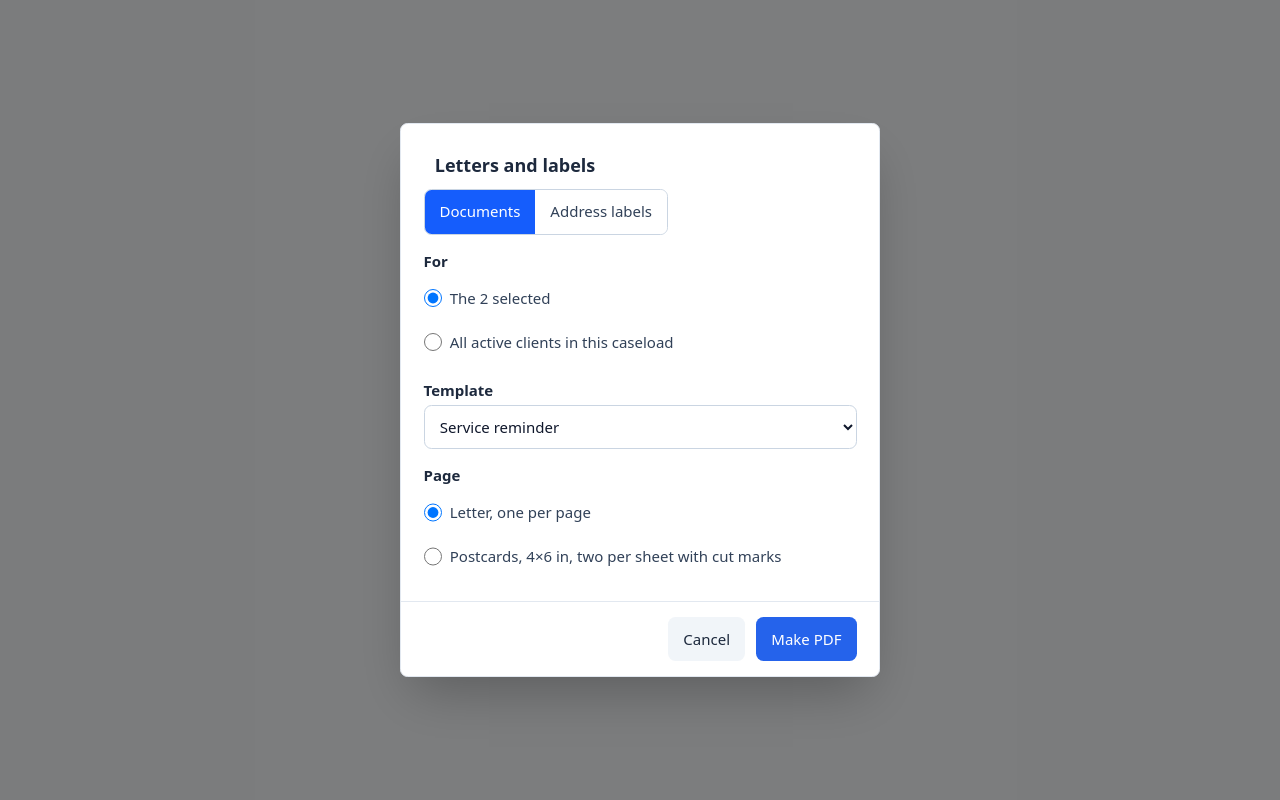
Test: printing documents › makes postcards for the selected records and lists unknown placeholders
Check: the radio button labelled "The 2 selected" is shown, box [424,289,442,307]
What coordinates should you click on to do the following:
click the radio button labelled "Postcards, 4×6 in, two per sheet with cut marks"
I would click on:
 (433, 556)
Its box is [424,547,442,566].
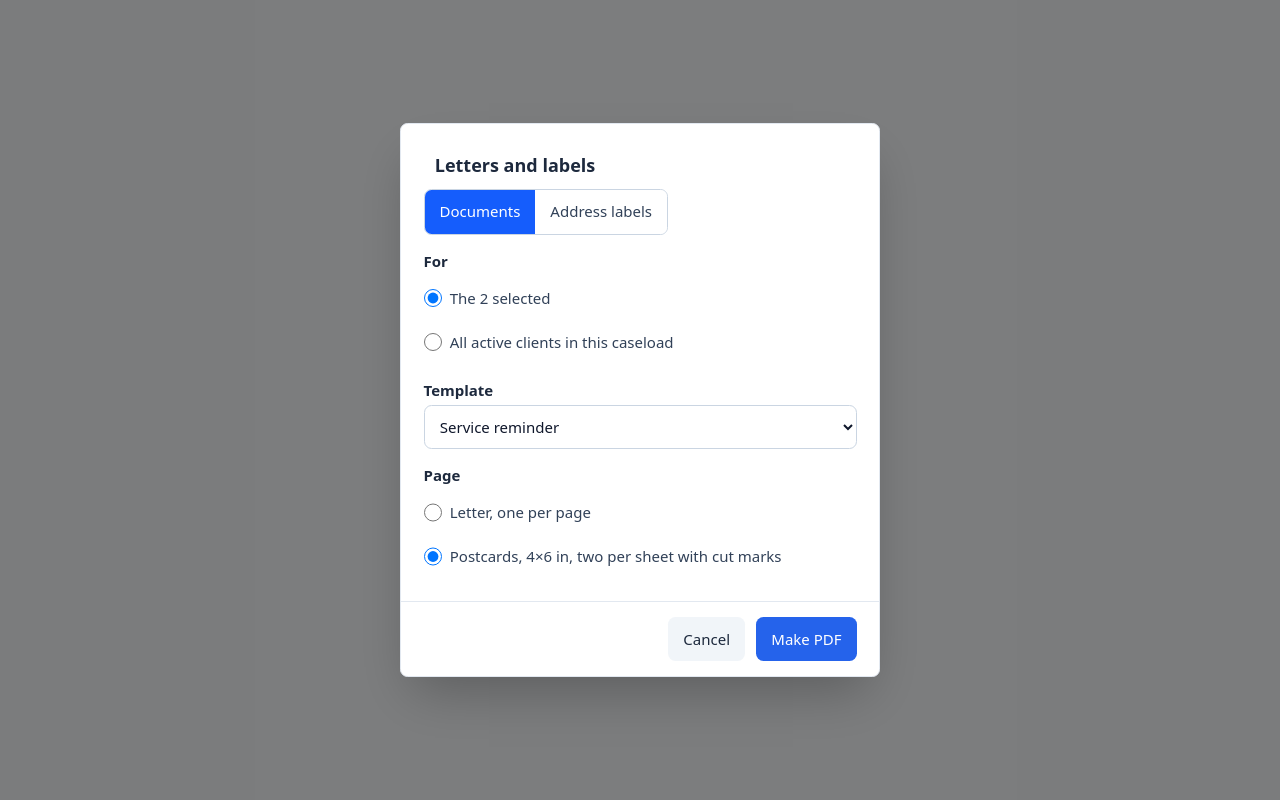
What coordinates should you click on to do the following:
click the button "Make PDF"
I would click on:
 (806, 639)
Its box is [756,617,856,661].
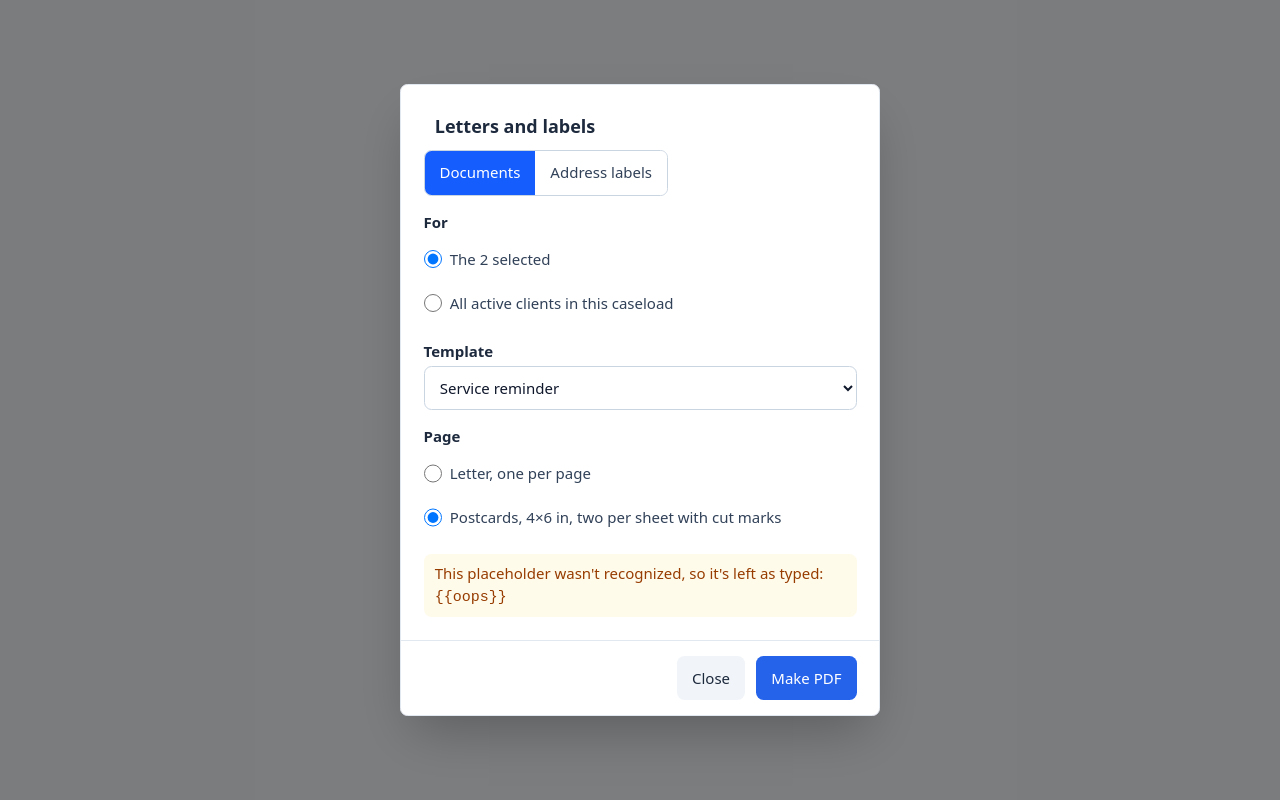
Check: the message shows "{{oops}}", box [435,589,507,606]
